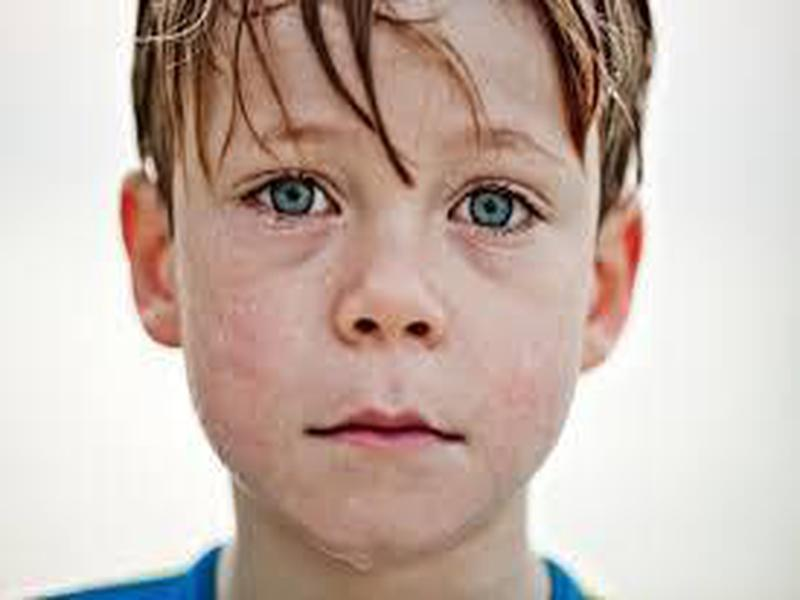without_mask: (174, 35, 587, 572)
